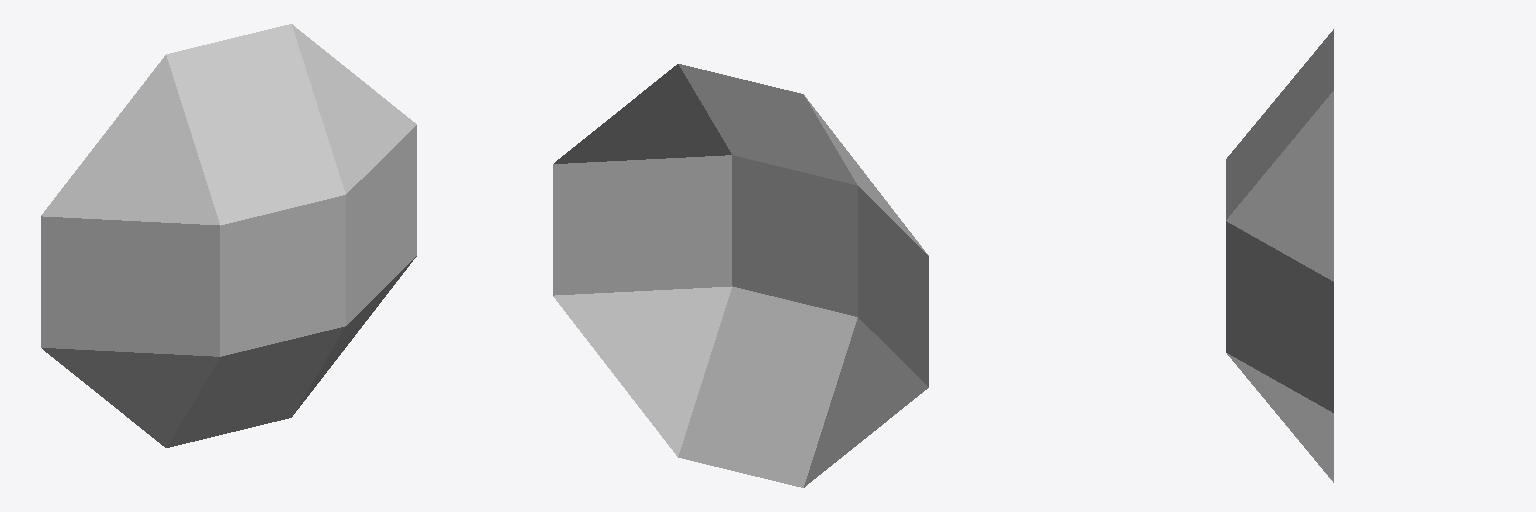
Rendered from cursor.obj.
3 renders of one model, left to right at view 1: azimuth 30°, elevation 25°; view 2: azimuth 150°, elevation 25°; view 3: azimuth 270°, elevation 25°, orthographic.
Parts seen in each view (by area): view 1: Cube; view 2: Cube; view 3: Cube.
Boxes of the visible parts, <box> form: Cube: <box>41,24,416,447</box>; Cube: <box>553,64,928,487</box>; Cube: <box>1226,29,1333,482</box>.
Size of the model in its own units: 1 by 1 by 0.25.